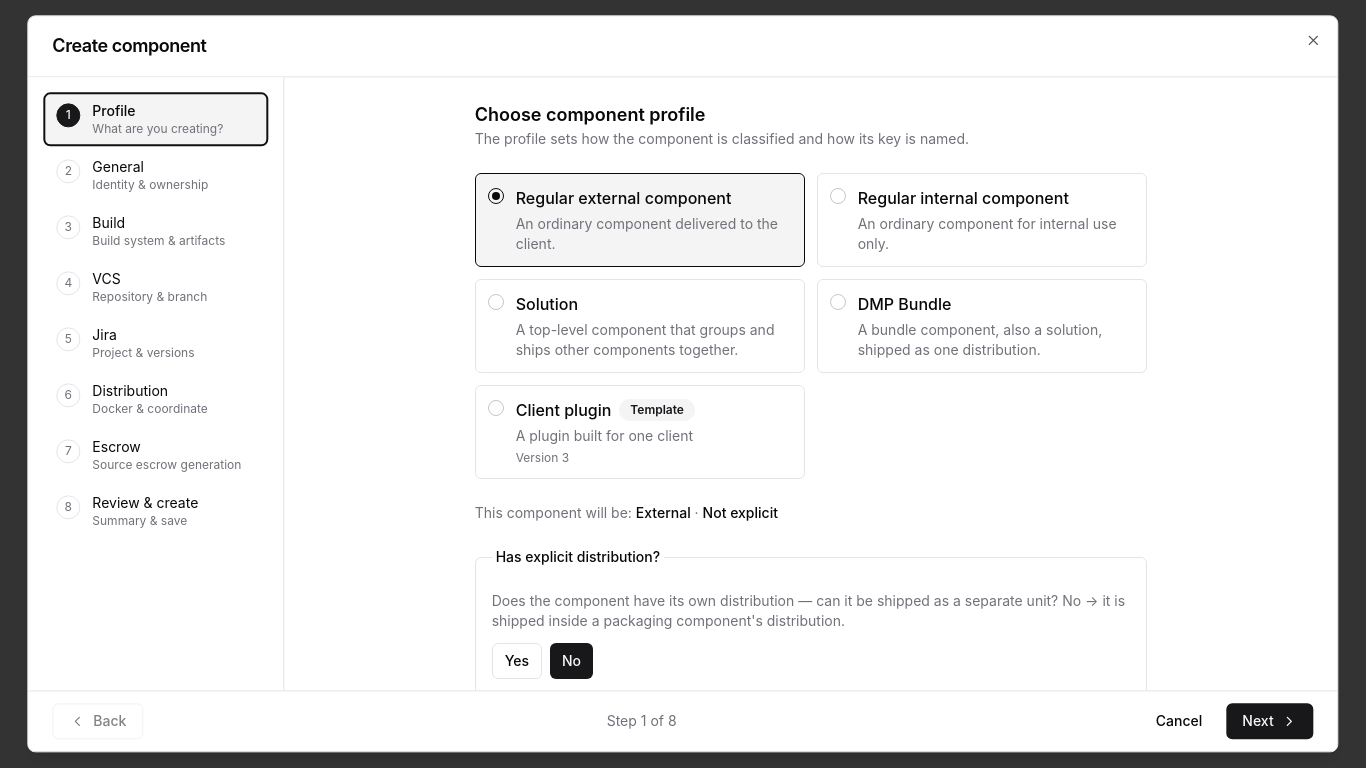
Test: Create component — Parameters › replaces the steps with Parameters and Review & create
Click the radio button labelled "Client plugin" at [640, 432], box [475,385,805,479]
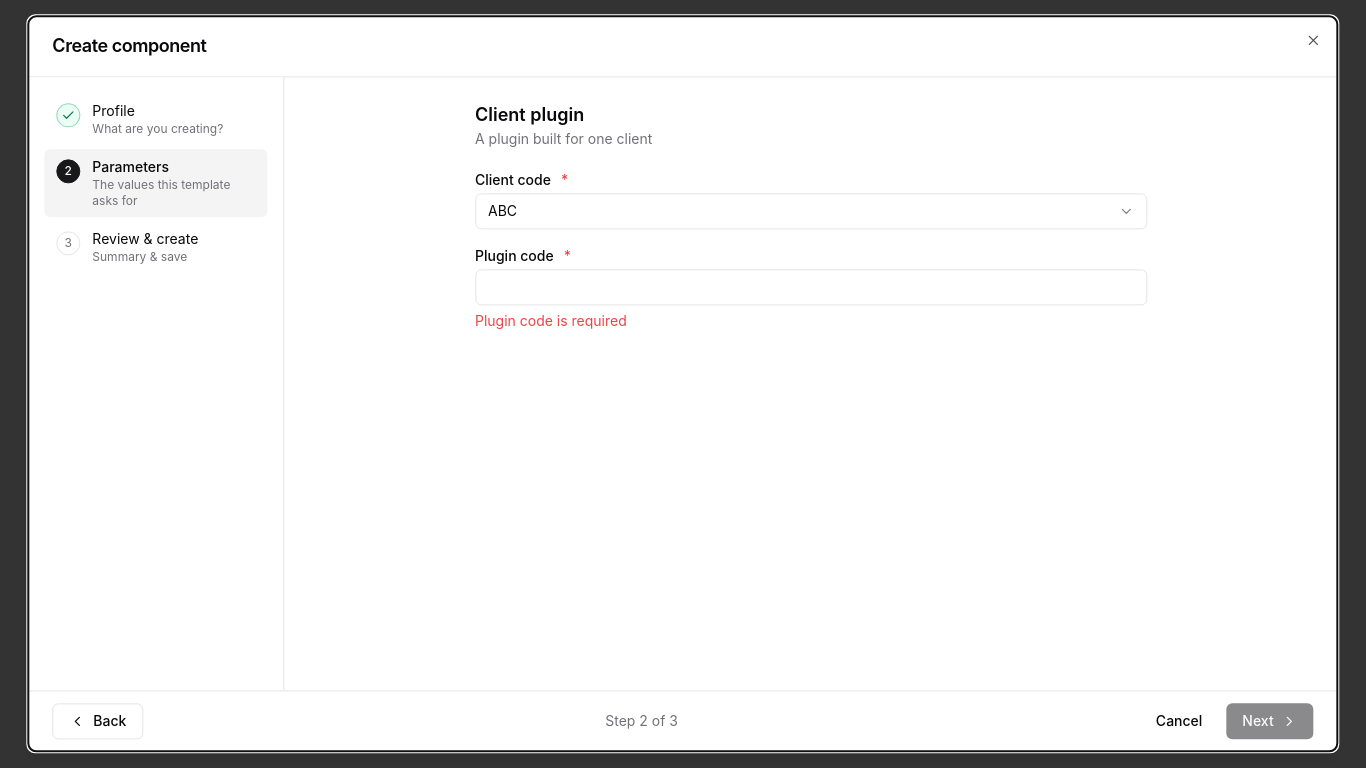
Now the text "Plugin code" is shown, box [475,247,554,264]
